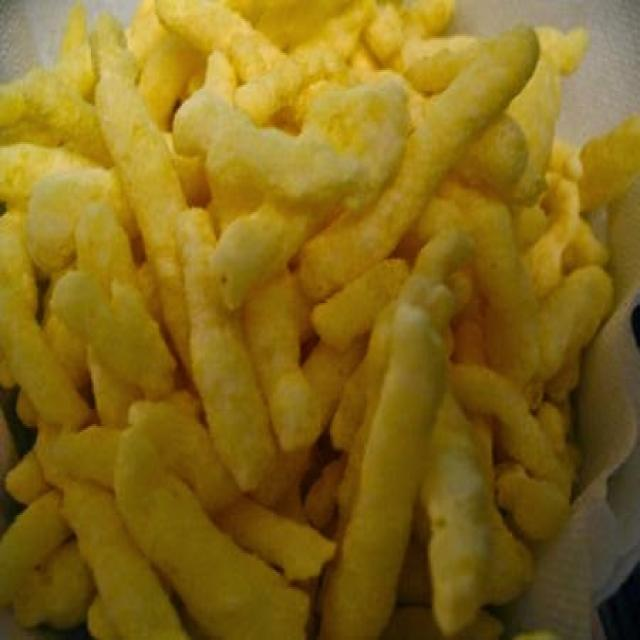Chips packaged: (10, 7, 596, 640)
